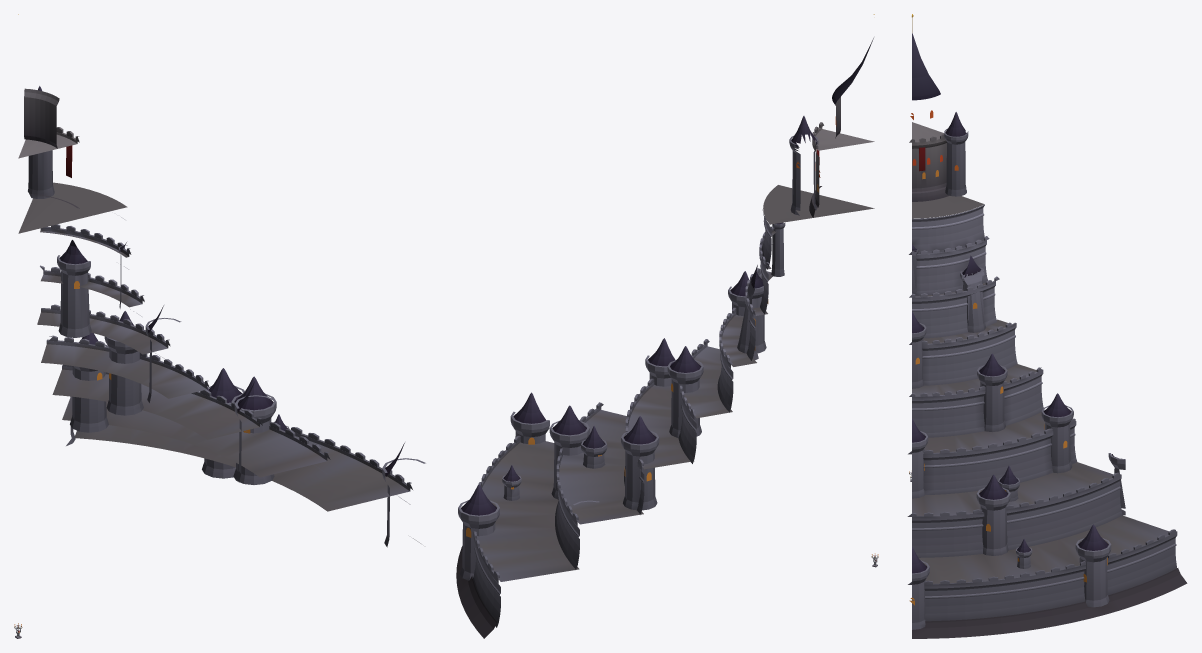
The model's file is fortress-s3-gL6-UZuV.glb.
The picture shows the model from 3 angles, left to right: view 1: azimuth 30°, elevation 25°; view 2: azimuth 150°, elevation 25°; view 3: azimuth 270°, elevation 25°; orthographic projection. The views are drawn at different scales.
Visible parts, largest first — view 1: sc_landmark_0; view 2: sc_landmark_0; view 3: sc_landmark_0.
Boxes of the visible parts, x1=… form: sc_landmark_0: x1=18, y1=14, x2=425, y2=547; sc_landmark_0: x1=456, y1=14, x2=874, y2=638; sc_landmark_0: x1=907, y1=14, x2=1187, y2=638.
Bounding box in the file's own units: 327 × 479 × 256.
